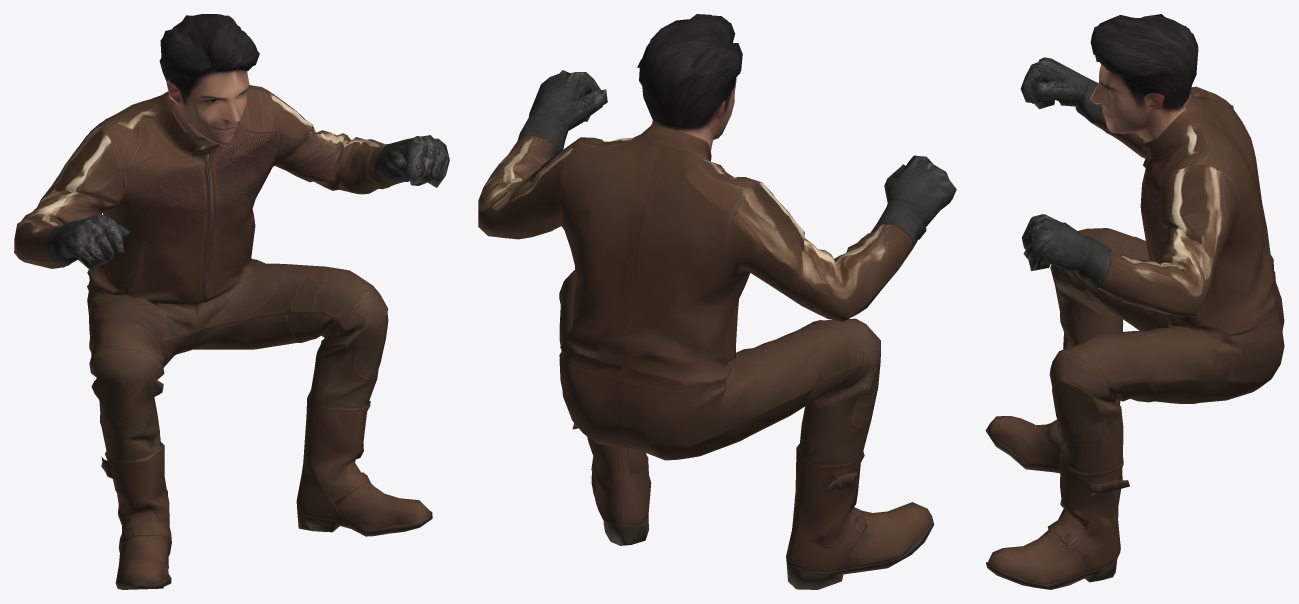
Rendered from bikerm2.glb.
3 renders of one model, left to right at view 1: azimuth 30°, elevation 25°; view 2: azimuth 150°, elevation 25°; view 3: azimuth 270°, elevation 25°, orthographic. The views are drawn at different scales.
Visible parts, largest first — view 1: tripo_node_5e014cd4-3236-445c-9a86-b588a2fb56c0; view 2: tripo_node_5e014cd4-3236-445c-9a86-b588a2fb56c0; view 3: tripo_node_5e014cd4-3236-445c-9a86-b588a2fb56c0.
Part boxes in pixels (x1=…): tripo_node_5e014cd4-3236-445c-9a86-b588a2fb56c0: x1=14, y1=14, x2=449, y2=589; tripo_node_5e014cd4-3236-445c-9a86-b588a2fb56c0: x1=478, y1=14, x2=956, y2=589; tripo_node_5e014cd4-3236-445c-9a86-b588a2fb56c0: x1=985, y1=14, x2=1284, y2=589.
Bounding box in the file's own units: 0.7769 × 1 × 0.5256.
Materials: 1 (1 with a texture image).
